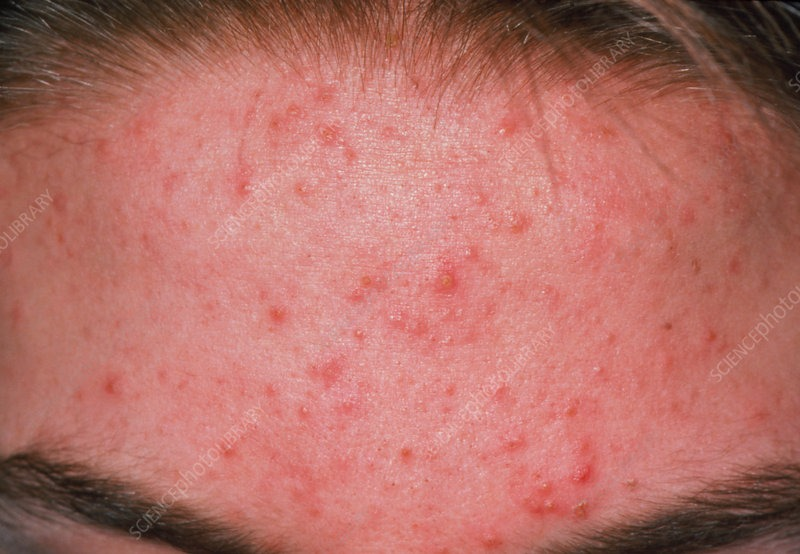Acne: (31, 86, 765, 537)
